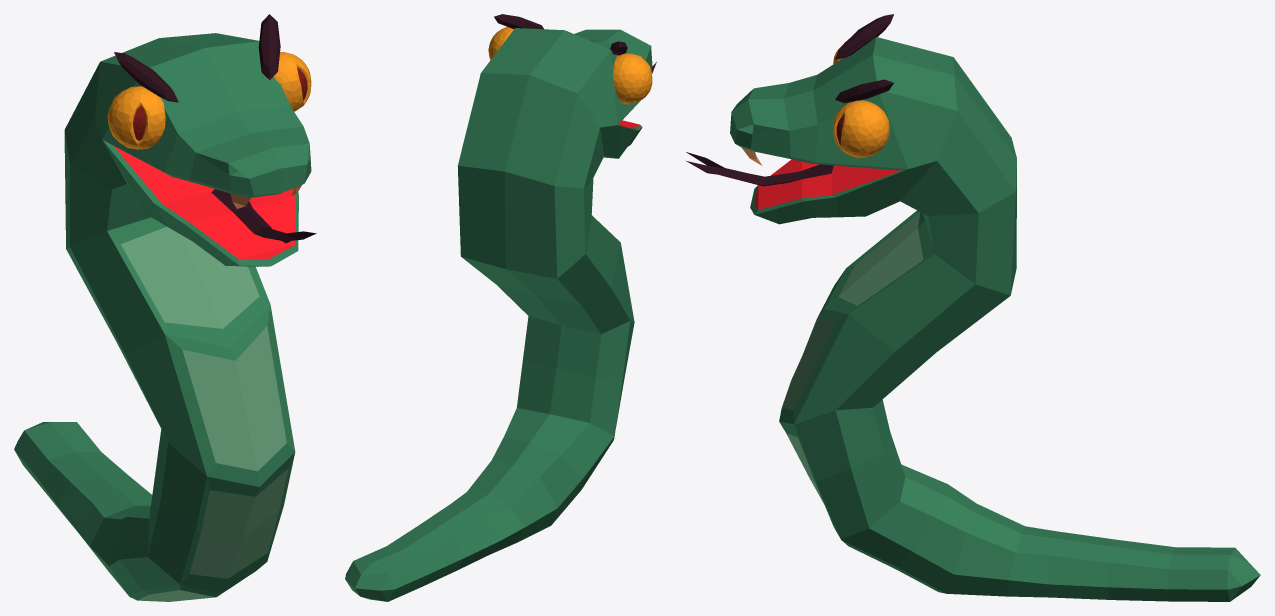
File: Snake_Angry_000001.obj
3 views of the same model, side by side, from view 1: azimuth 30°, elevation 25°; view 2: azimuth 150°, elevation 25°; view 3: azimuth 270°, elevation 25° (orthographic). The views are drawn at different scales.
Visible parts, largest first — view 1: Snake_Cylinder; view 2: Snake_Cylinder; view 3: Snake_Cylinder.
Part boxes in pixels (x1=…): Snake_Cylinder: x1=14, y1=14, x2=316, y2=601; Snake_Cylinder: x1=345, y1=14, x2=656, y2=601; Snake_Cylinder: x1=685, y1=14, x2=1260, y2=601.
Bounding box in the file's own units: 1.05 × 3.03 × 2.95.
